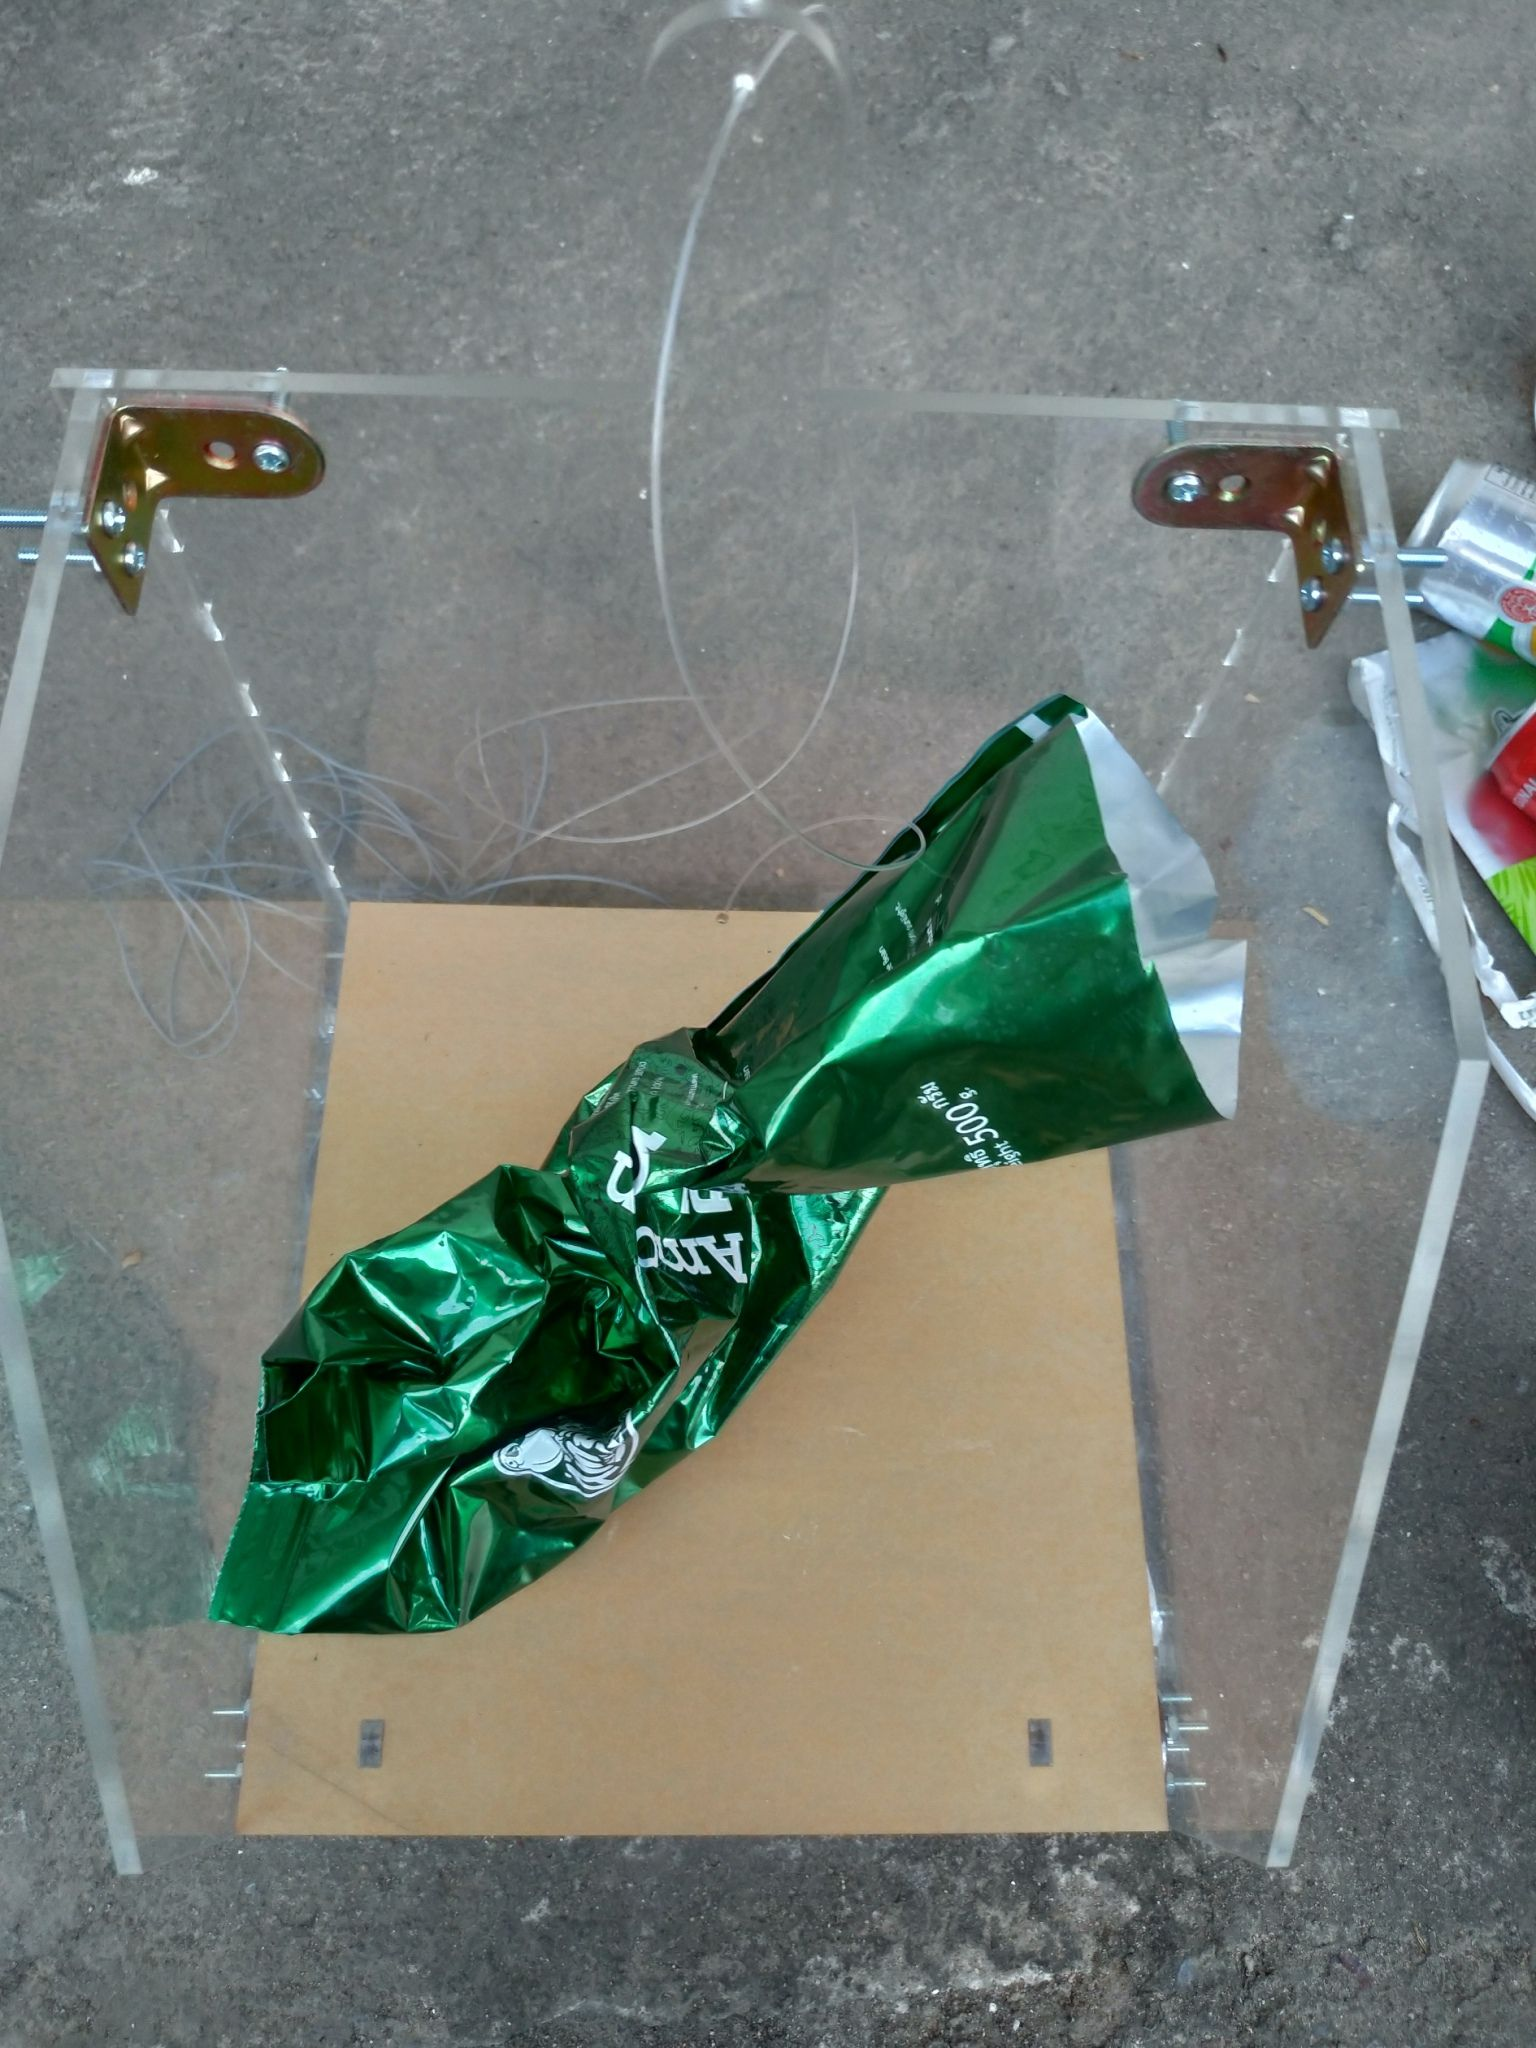AlCan: (1413, 461, 1536, 655), (1463, 698, 1536, 872)
Others: (213, 685, 1250, 1645)
